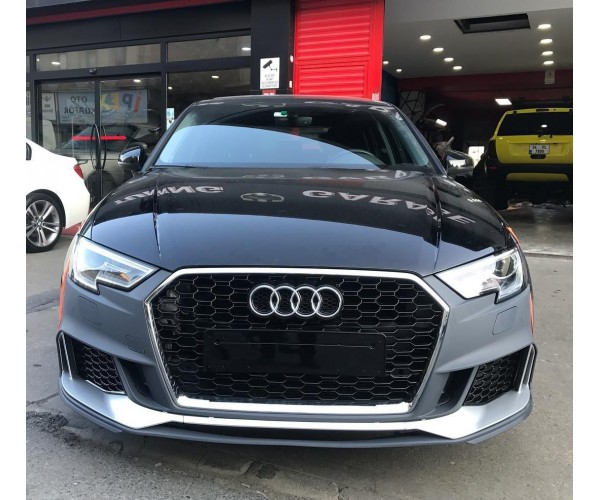audi: (246, 282, 348, 323)
